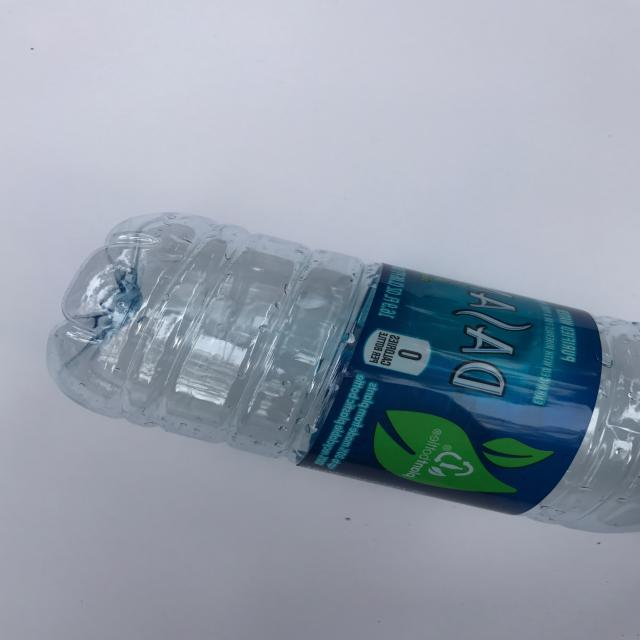plastic: (46, 211, 640, 534)
